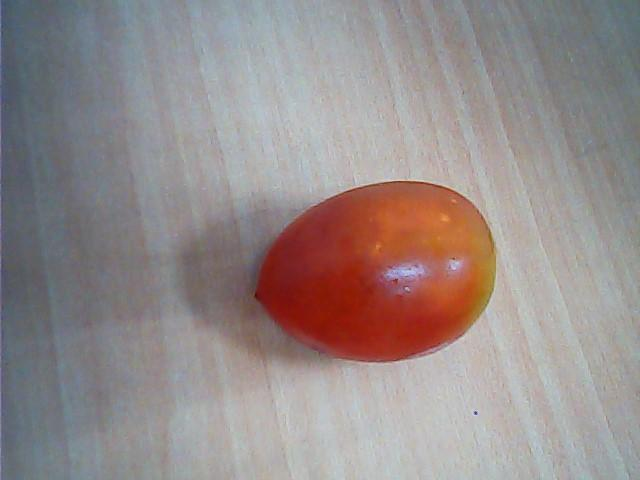verde: (251, 181, 500, 363)
